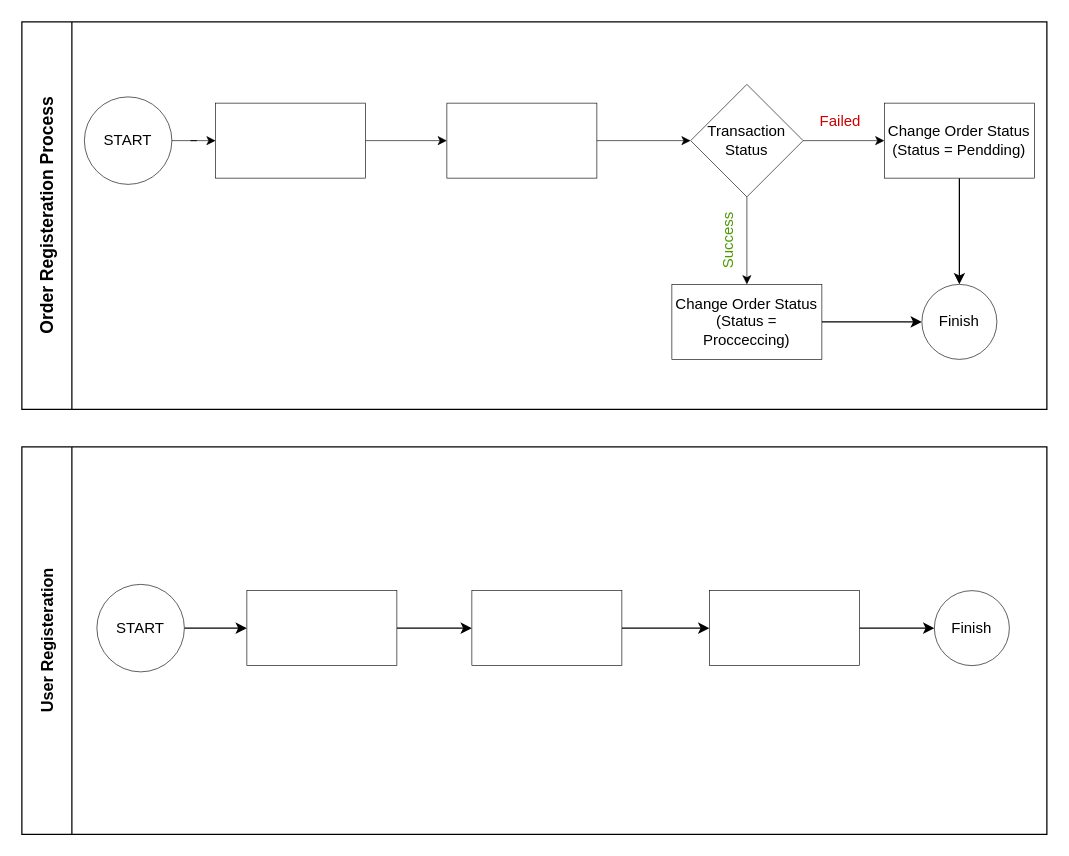
This 1069x856 diagram has some shape labels left out. Each missing label, with the centre of its shape:
"Assign 'customer' Role to User" goes at (x=783, y=627).
"Fake Address Generate and Assign to User" goes at (x=546, y=627).
"Generate User Fake Data" goes at (x=321, y=627).
"Order Registeration (Status = Pendding)" goes at (x=290, y=140).
"Transaction Generation" goes at (x=521, y=140).
